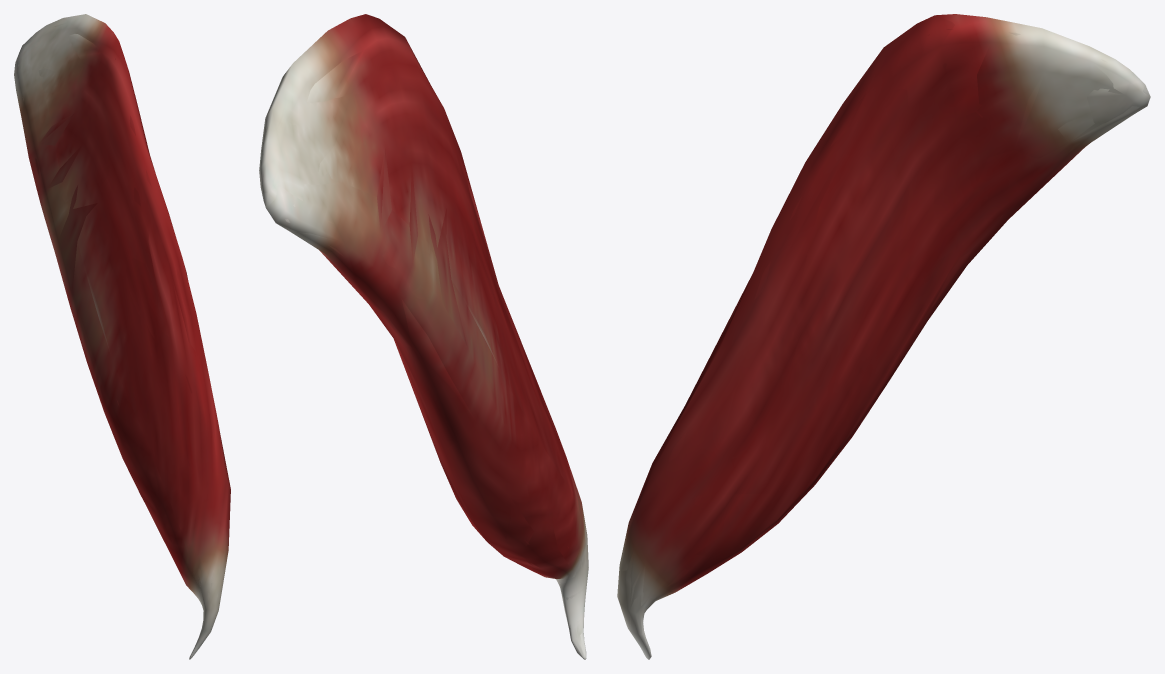
Rendered from R Supraspinatus.fbx.
The picture shows the model from 3 angles, left to right: view 1: azimuth 30°, elevation 25°; view 2: azimuth 150°, elevation 25°; view 3: azimuth 270°, elevation 25°; orthographic projection. The views are drawn at different scales.
Visible parts, largest first — view 1: R Supraspinatus, R Supraspinatus low, R Supraspinatus high; view 2: R Supraspinatus, R Supraspinatus low, R Supraspinatus high; view 3: R Supraspinatus, R Supraspinatus low, R Supraspinatus high.
Part boxes in pixels (<box>): R Supraspinatus: <box>14,14,230,659</box>; R Supraspinatus low: <box>17,33,230,608</box>; R Supraspinatus high: <box>18,23,224,652</box>; R Supraspinatus: <box>259,14,588,659</box>; R Supraspinatus low: <box>263,20,585,581</box>; R Supraspinatus high: <box>263,32,587,653</box>; R Supraspinatus: <box>617,14,1150,659</box>; R Supraspinatus low: <box>619,15,1150,637</box>; R Supraspinatus high: <box>619,29,1134,659</box>.
Size of the model in its own units: 1.02 by 6.83 by 4.9.
Materials: 1 (1 with a texture image).
